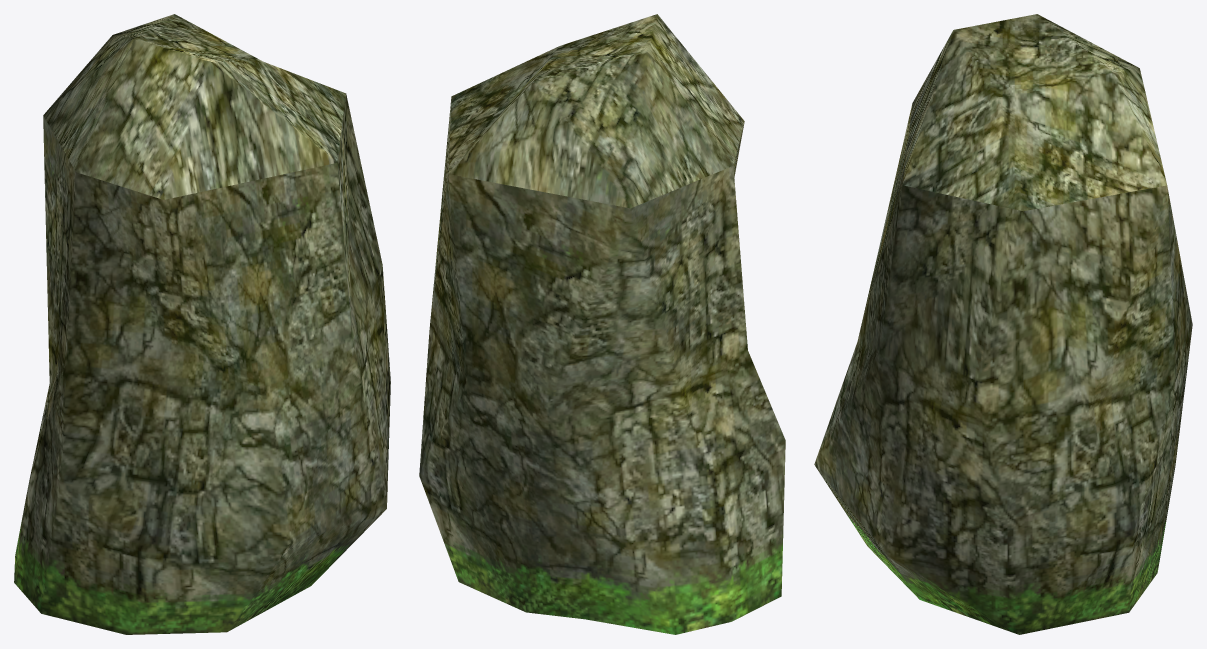
Rendered from rock11.glb.
3 renders of one model, left to right at view 1: azimuth 30°, elevation 25°; view 2: azimuth 150°, elevation 25°; view 3: azimuth 270°, elevation 25°, orthographic.
Parts seen in each view (by area): view 1: rock11-col; view 2: rock11-col; view 3: rock11-col.
Boxes of the visible parts, left/top/right/bottom form: rock11-col: left=14, top=14, right=390, bottom=634; rock11-col: left=419, top=14, right=785, bottom=634; rock11-col: left=814, top=14, right=1192, bottom=634.
Size of the model in its own units: 4.7 by 6.81 by 4.41.
1 material, 1 textured.
